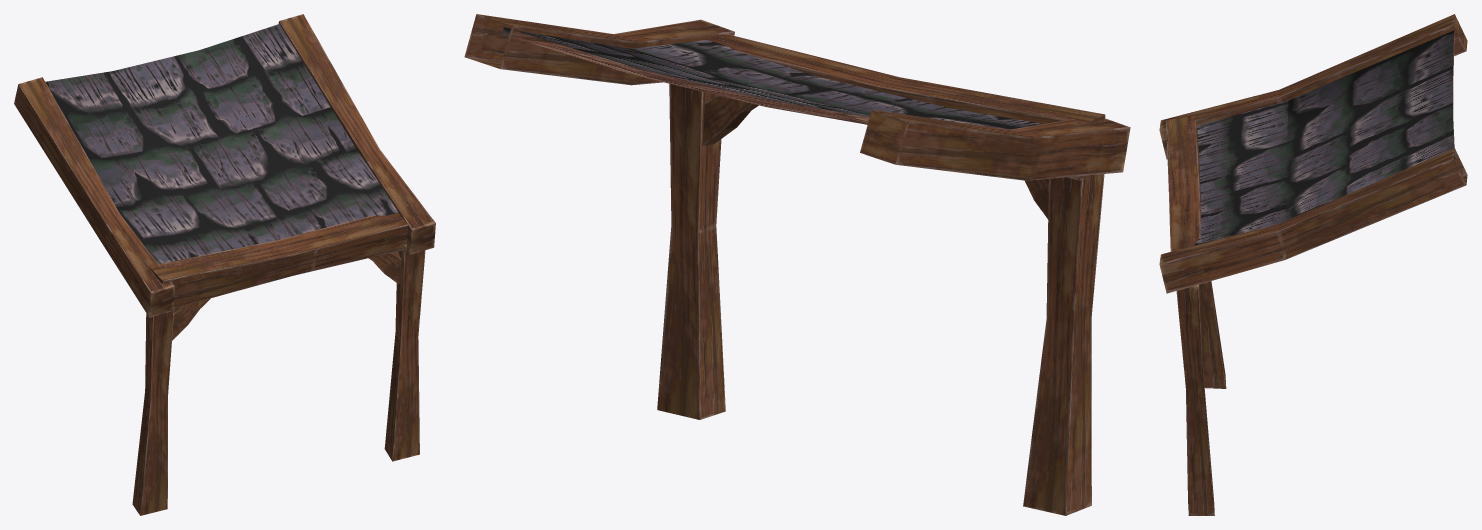
The model's file is coeberturaLOD.fbx.
3 renders of one model, left to right at view 1: azimuth 30°, elevation 25°; view 2: azimuth 150°, elevation 25°; view 3: azimuth 270°, elevation 25°, orthographic. The views are drawn at different scales.
Visible parts, largest first — view 1: cobertura_LOD0; view 2: cobertura_LOD0; view 3: cobertura_LOD0.
Part boxes in pixels (x1=…): cobertura_LOD0: x1=14, y1=14, x2=435, y2=515; cobertura_LOD0: x1=464, y1=14, x2=1130, y2=515; cobertura_LOD0: x1=1159, y1=14, x2=1467, y2=515.
Size of what is drawn, in the model's own units: 170 by 191 by 147.
